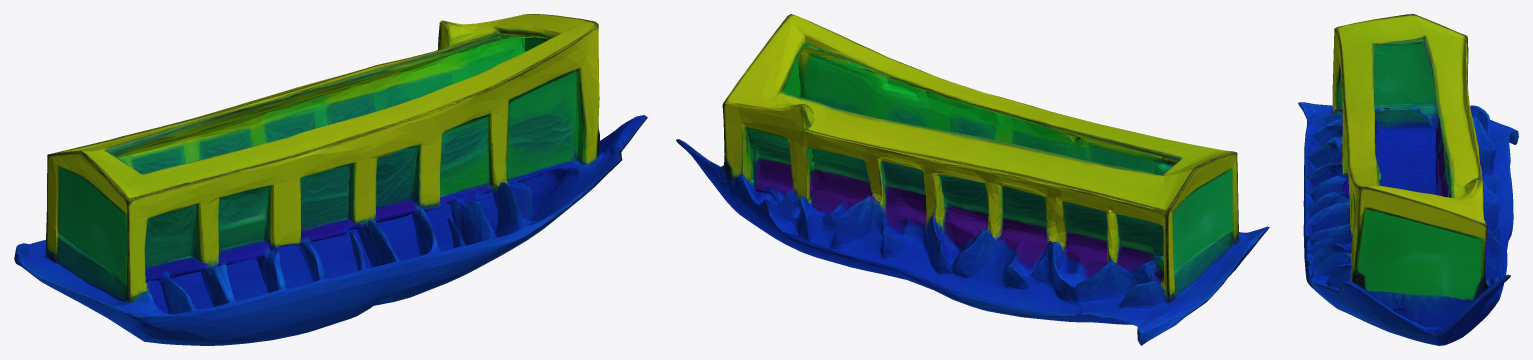
File: icon.glb
3 views of the same model, side by side, from view 1: azimuth 30°, elevation 25°; view 2: azimuth 150°, elevation 25°; view 3: azimuth 270°, elevation 25° (orthographic). The views are drawn at different scales.
Parts seen in each view (by area): view 1: world; view 2: world; view 3: world.
Part boxes in pixels (<box>): world: <box>14,14,647,345</box>; world: <box>676,14,1269,345</box>; world: <box>1298,14,1518,345</box>.
Size of the model in its own units: 0.9977 by 0.368 by 0.4066.
1 material, 1 textured.
